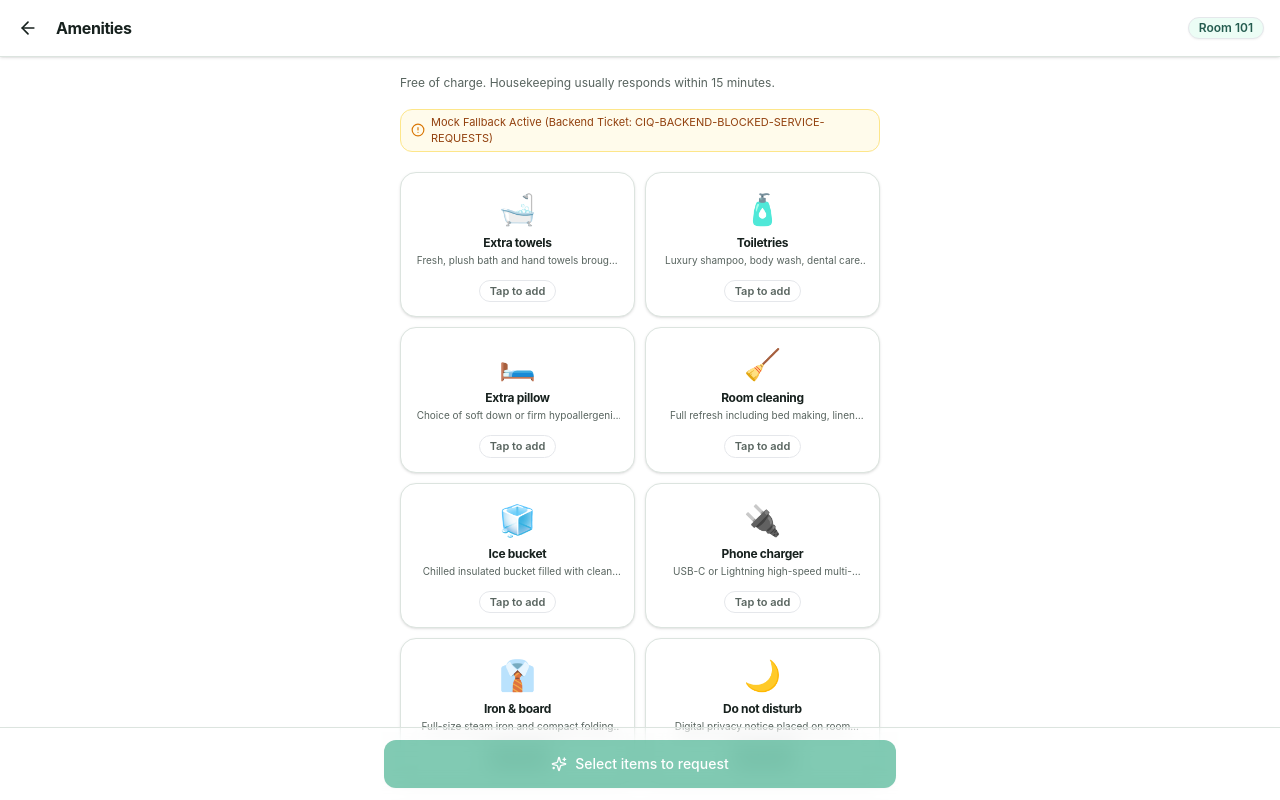
AmenitiesPage Component Suite (UI: G06) › Backend Blocker Resilience & Mock Fallback Execution › allows resetting confirmation view to request additional amenities
Click the button with aria-label "Ice bucket, currently 0 selected" at (518, 555), box x1=400 y1=482 x2=635 y2=628
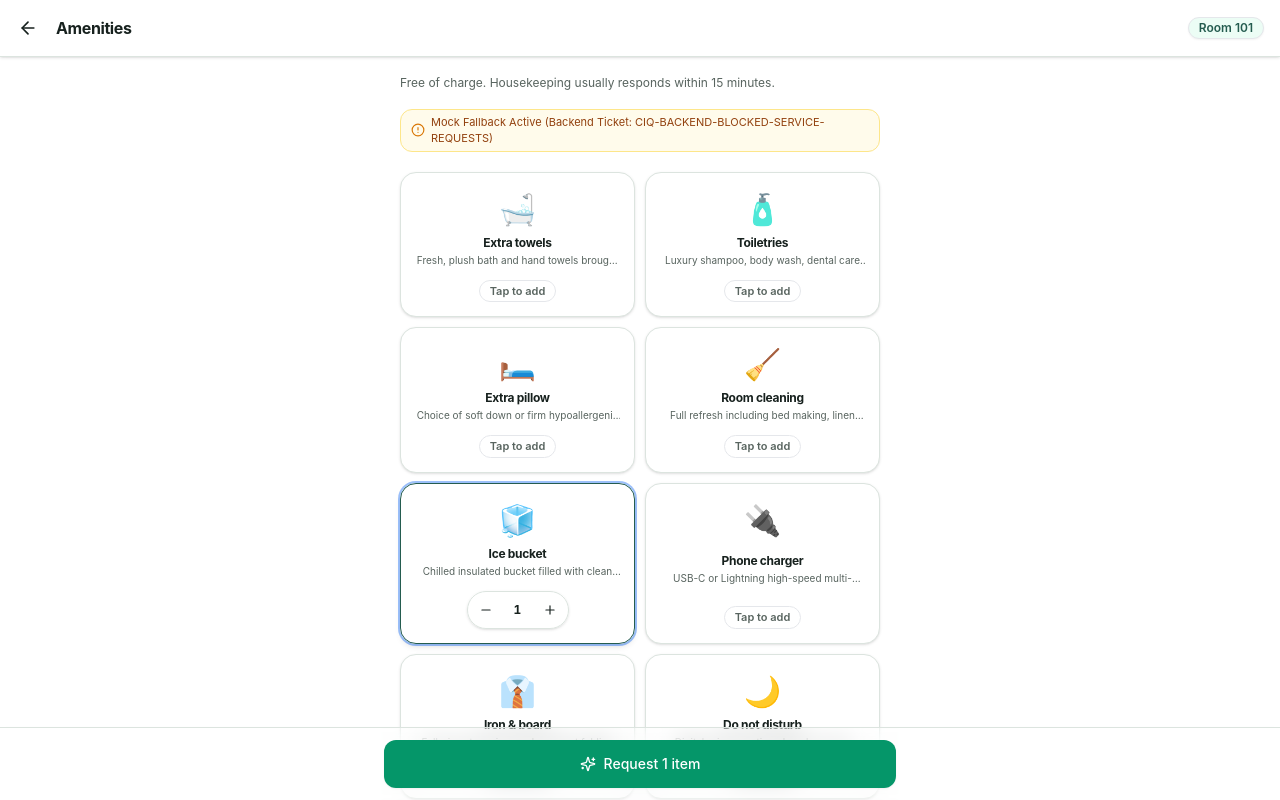
Click the button "Request 1 item" at (640, 764), box x1=384 y1=740 x2=896 y2=788
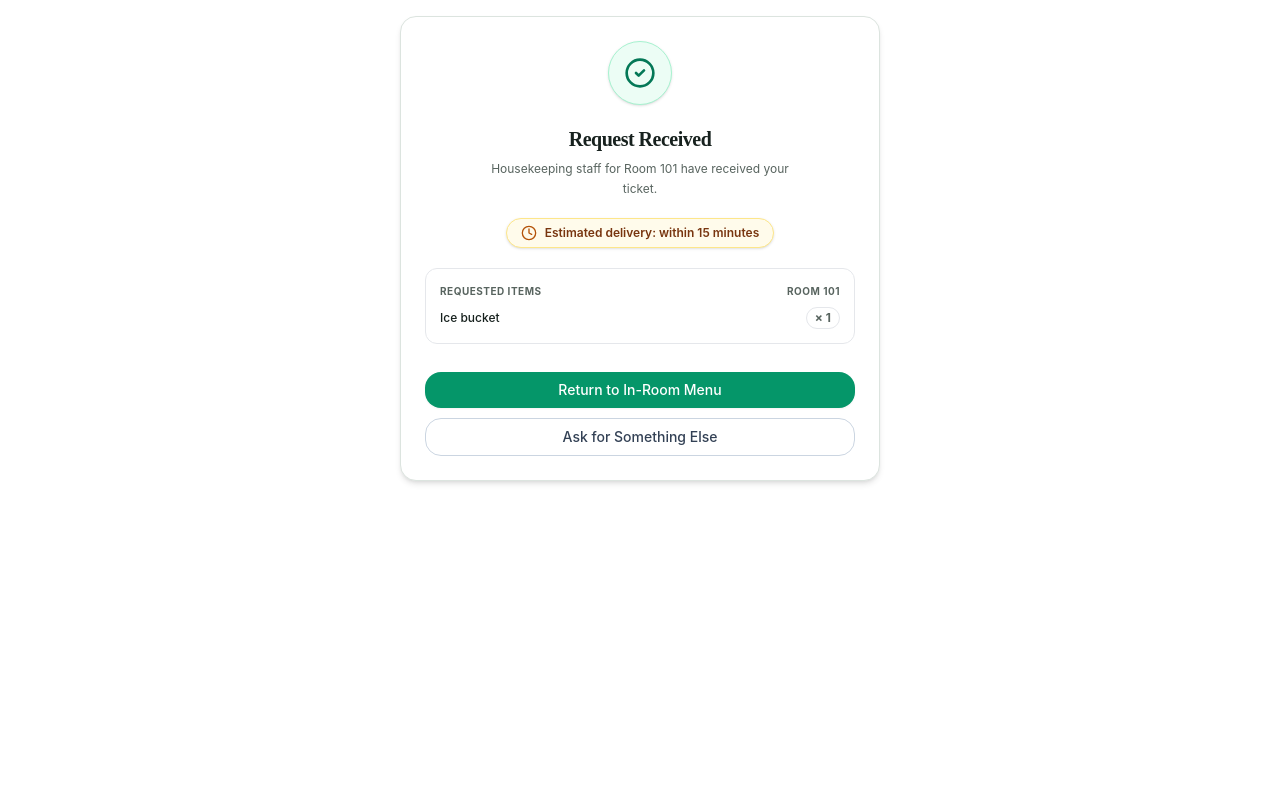
Now the heading "Request Received" is shown, box x1=569 y1=128 x2=711 y2=150
Click the button "Ask for Something Else" at (640, 437), box x1=425 y1=418 x2=855 y2=456
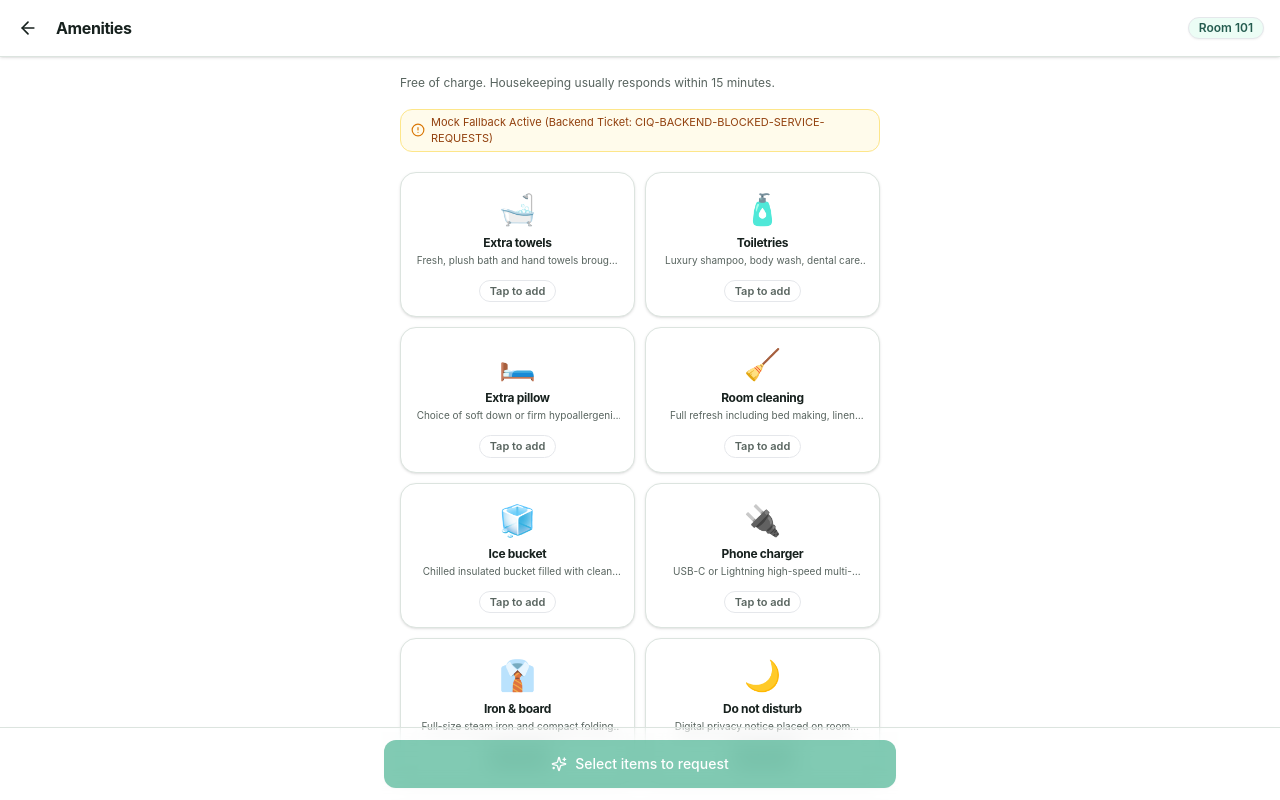
Now the heading "Amenities" is shown, box x1=56 y1=16 x2=132 y2=40
Now the button "Select items to request" is disabled, box x1=384 y1=740 x2=896 y2=788
